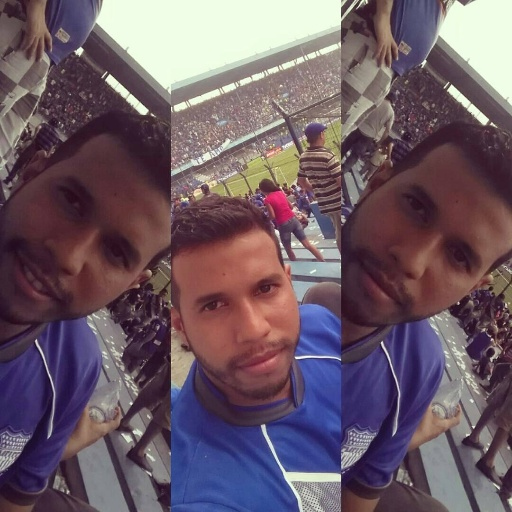hand: (73, 400, 122, 451), (413, 400, 463, 443), (17, 12, 53, 62), (371, 15, 399, 66)
